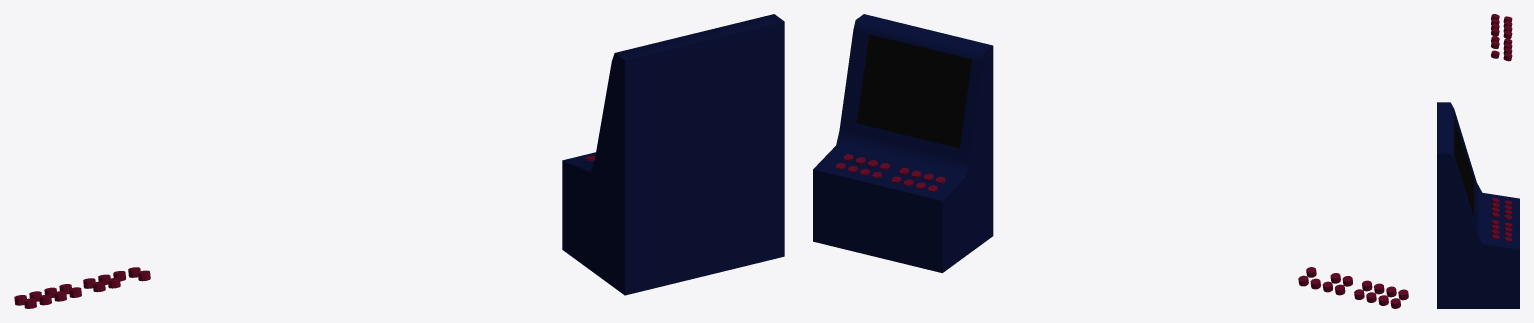
The model's file is COLORbigcomputerMesh.fbx.
3 renders of one model, left to right at view 1: azimuth 30°, elevation 25°; view 2: azimuth 150°, elevation 25°; view 3: azimuth 270°, elevation 25°, orthographic. The views are drawn at different scales.
Visible parts, largest first — view 1: polySurface41; view 2: polySurface41; view 3: polySurface41.
Boxes of the visible parts, x1,y1,x2,y2 form: polySurface41: [14, 14, 784, 308]; polySurface41: [813, 14, 1408, 308]; polySurface41: [1437, 14, 1519, 308].
Size of the model in its own units: 4.4 by 1.38 by 0.6678.
